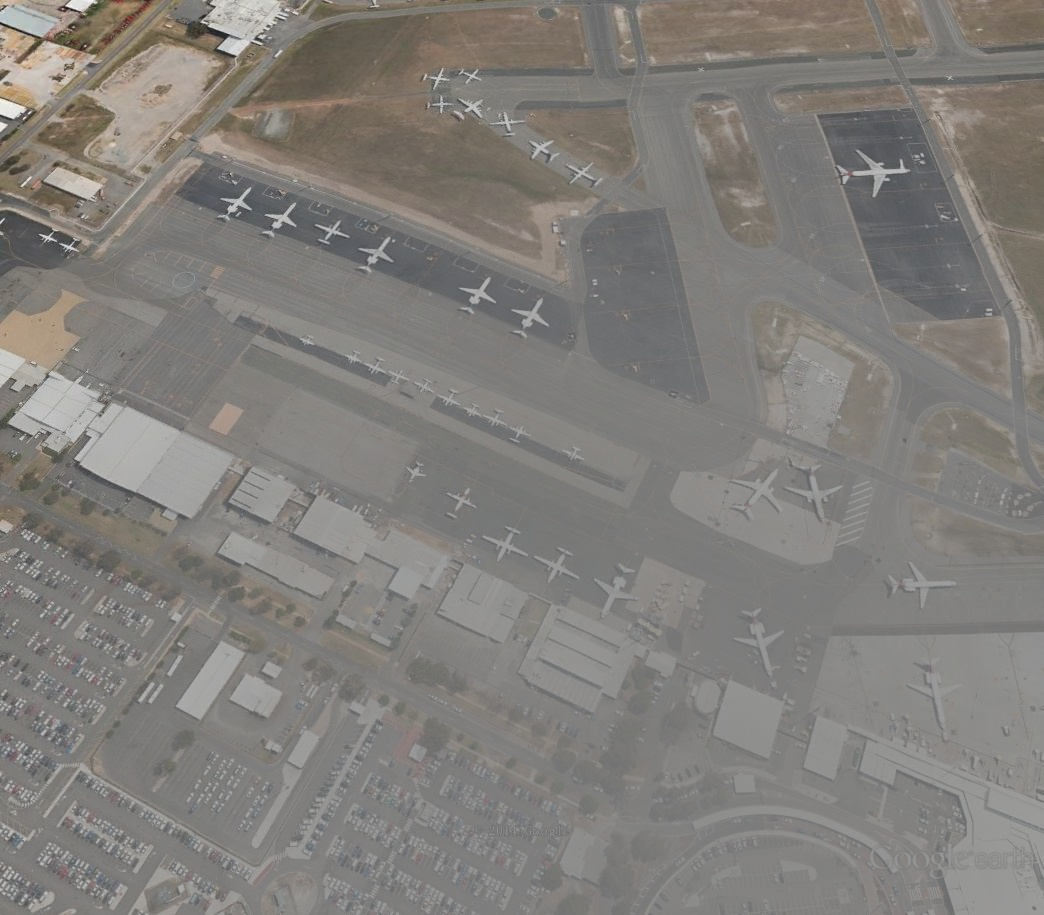aircraft: (903, 655, 965, 735), (836, 147, 915, 202), (731, 609, 790, 682), (783, 460, 847, 526), (885, 558, 960, 612), (730, 465, 785, 526), (592, 562, 641, 623), (531, 544, 583, 588), (456, 273, 502, 319), (479, 523, 531, 563), (508, 296, 550, 341), (355, 234, 398, 276), (218, 183, 259, 224), (262, 202, 301, 245), (440, 486, 480, 525), (312, 216, 352, 250), (563, 160, 606, 189), (449, 95, 486, 125), (488, 111, 527, 139), (527, 138, 563, 167), (423, 93, 455, 119), (421, 65, 451, 92), (557, 442, 588, 466), (482, 407, 510, 433), (434, 387, 461, 412), (57, 235, 85, 259), (38, 225, 63, 250), (406, 459, 428, 487), (506, 425, 534, 447), (362, 354, 388, 376), (412, 377, 440, 397), (388, 365, 413, 387), (458, 67, 483, 86), (460, 401, 483, 421), (345, 348, 364, 369), (299, 333, 317, 350)
